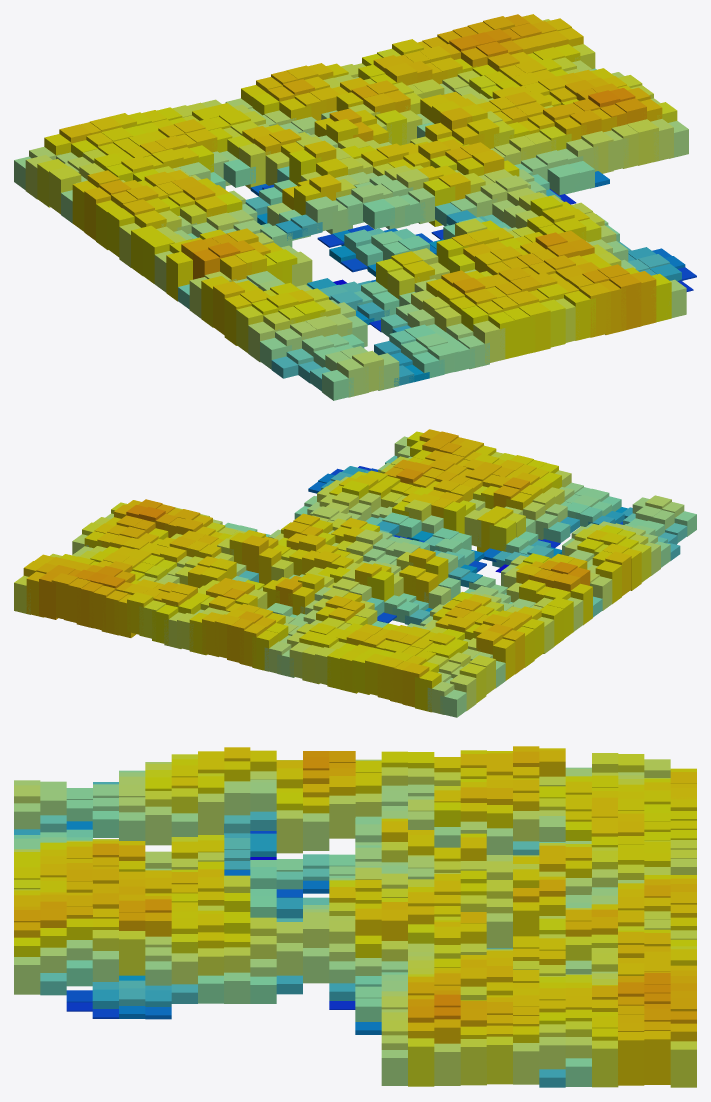
File: population.glb
The picture shows the model from 3 angles, top to bottom: view 1: azimuth 30°, elevation 25°; view 2: azimuth 150°, elevation 25°; view 3: azimuth 270°, elevation 25°; orthographic projection. The views are drawn at different scales.
Visible parts, largest first — view 1: population; view 2: population; view 3: population.
Part boxes in pixels (box(x1,y1,x2,y2)): population: box(14, 14, 696, 400); population: box(14, 429, 696, 717); population: box(14, 746, 696, 1087).
Bounding box in the file's own units: 2630 × 279 × 2595.
